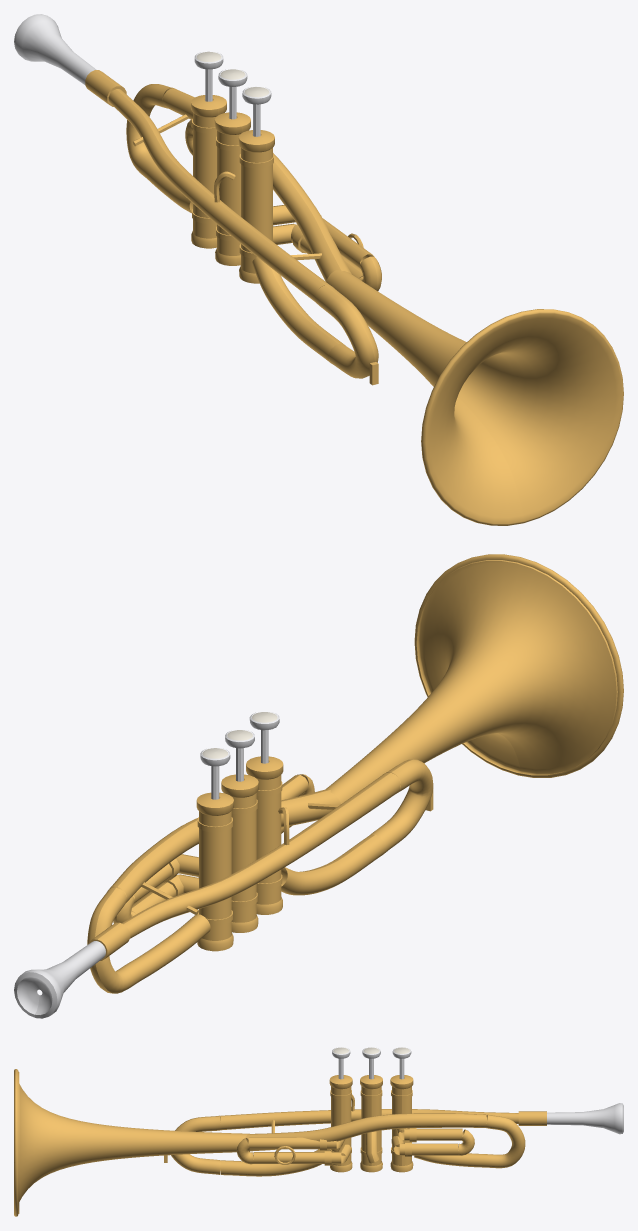
File: trumpet.glb
3 renders of one model, top to bottom at view 1: azimuth 30°, elevation 25°; view 2: azimuth 150°, elevation 25°; view 3: azimuth 270°, elevation 25°, orthographic. The views are drawn at different scales.
Visible parts, largest first — view 1: trumpet_brass, trumpet_silver; view 2: trumpet_brass, trumpet_silver, trumpet_pearl; view 3: trumpet_brass, trumpet_silver, trumpet_pearl.
Part boxes in pixels (x1,y1,x2,y2): trumpet_brass: (85,70,623,525); trumpet_silver: (14,14,271,136); trumpet_brass: (87,554,623,993); trumpet_silver: (14,712,279,1018); trumpet_pearl: (202,712,277,758); trumpet_brass: (14,1069,546,1216); trumpet_silver: (332,1048,623,1134); trumpet_pearl: (333,1047,409,1053).
Size of the model in its own units: 0.1267 by 0.1483 by 0.522.
